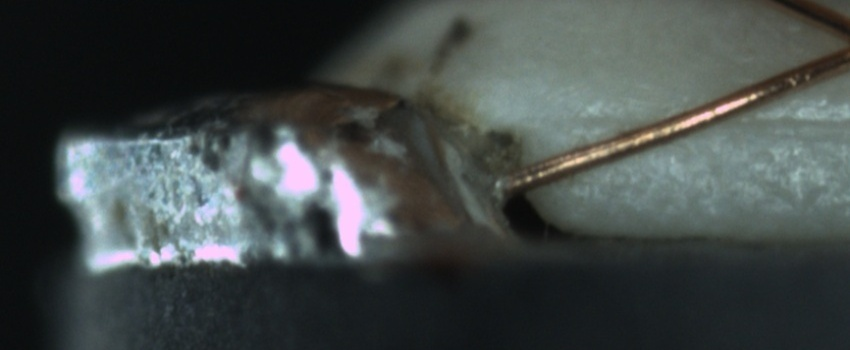DL: (564, 90, 847, 154)
